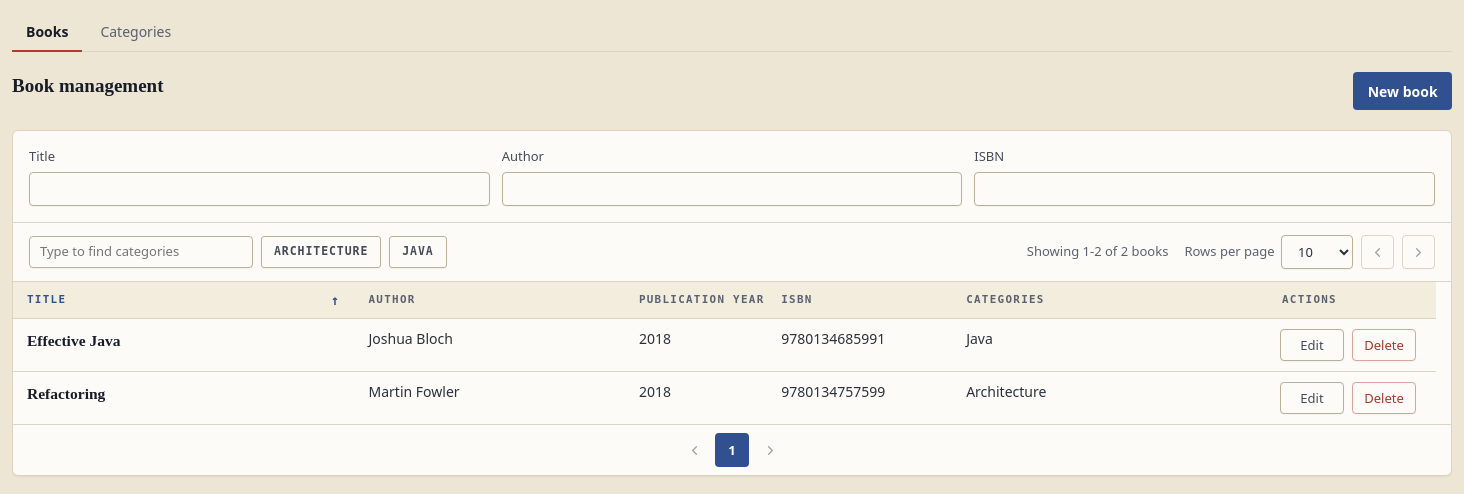
Test: AdminCatalogPage › does not open book editing without the backend current version
The width and height of the screenshot is (1464, 494).
Click the button with aria-label "Edit Effective Java" at [1312, 345], box [1280,329,1344,361]
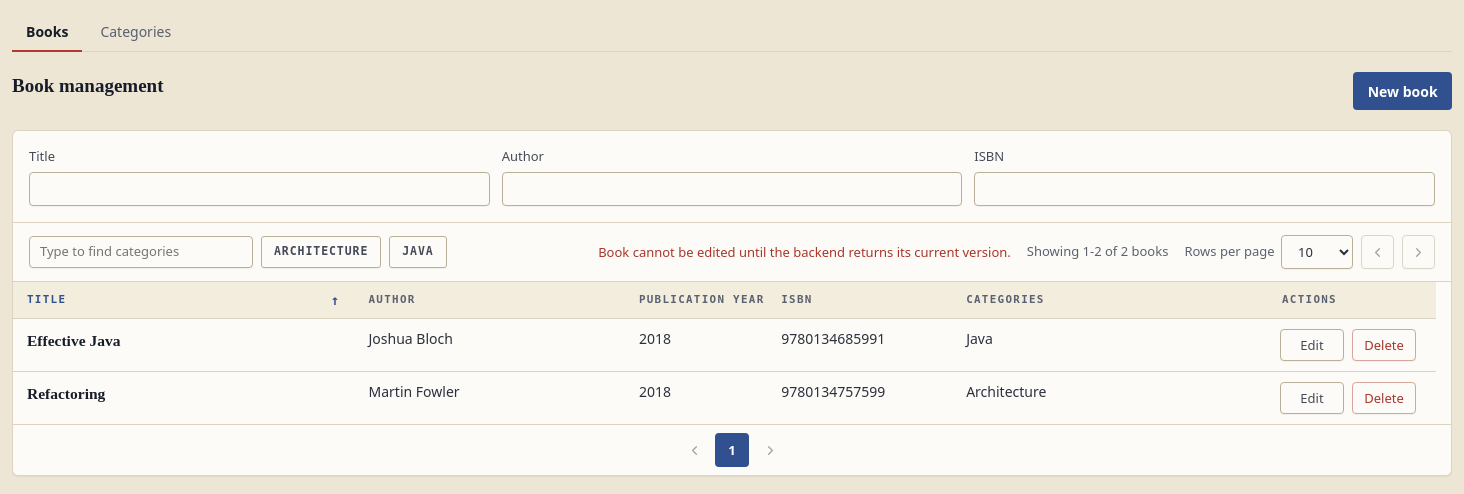
Check: the message reads "Book cannot be edited until the backend returns its current version.", box [598,243,1011,261]
